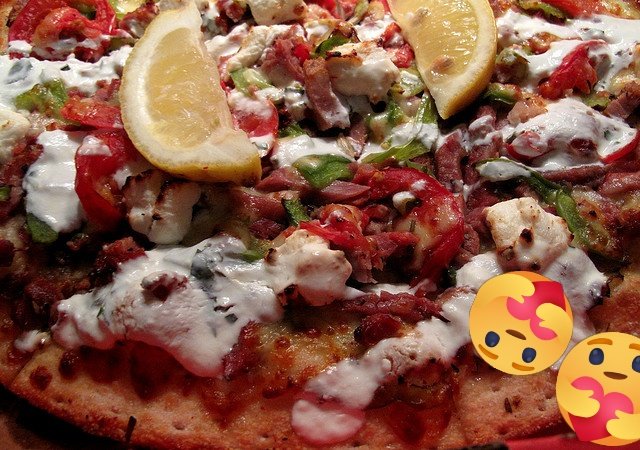care: (469, 271, 573, 375), (556, 332, 640, 446)
